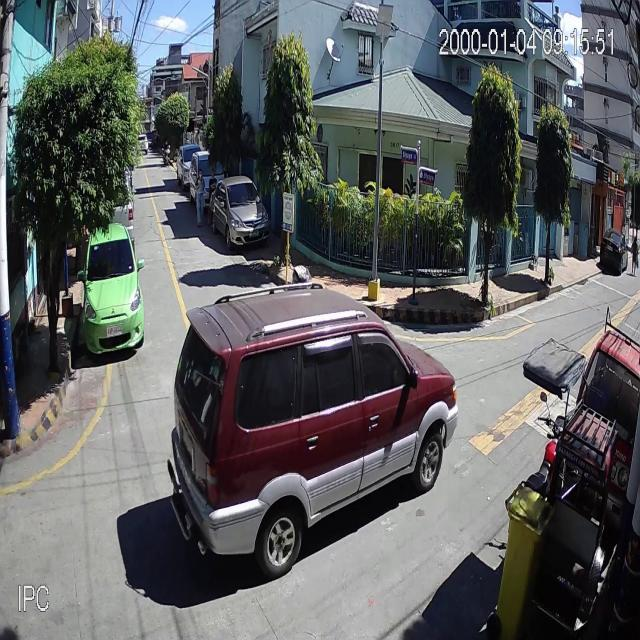standing: (194, 169, 202, 224), (207, 168, 214, 224)
